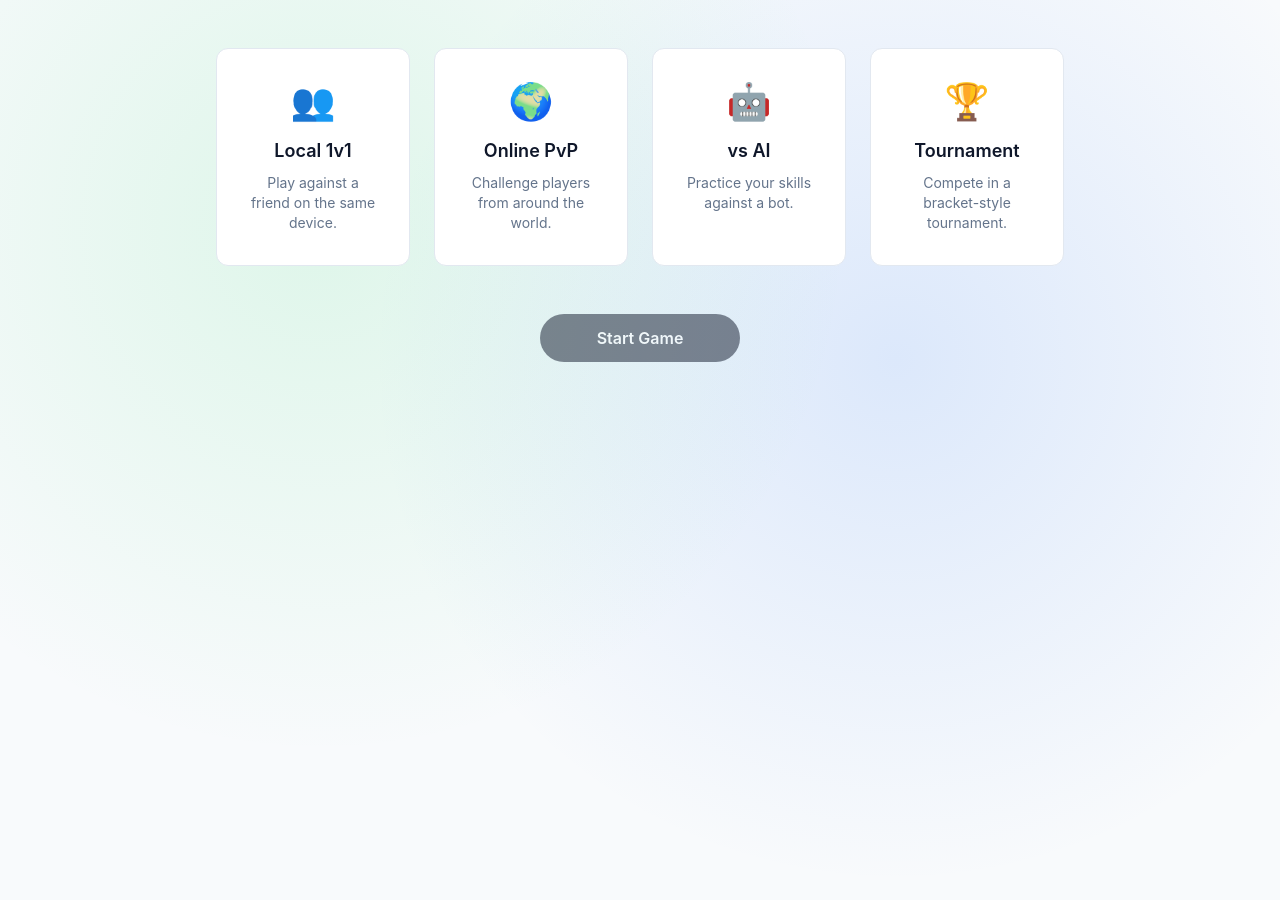
Test: GameLobbyPage › enables start button when local mode is selected
What coordinates should you click on to do the following:
click the heading "Local 1v1"
I would click on:
 (313, 151)
Its box is [274,137,352,165].
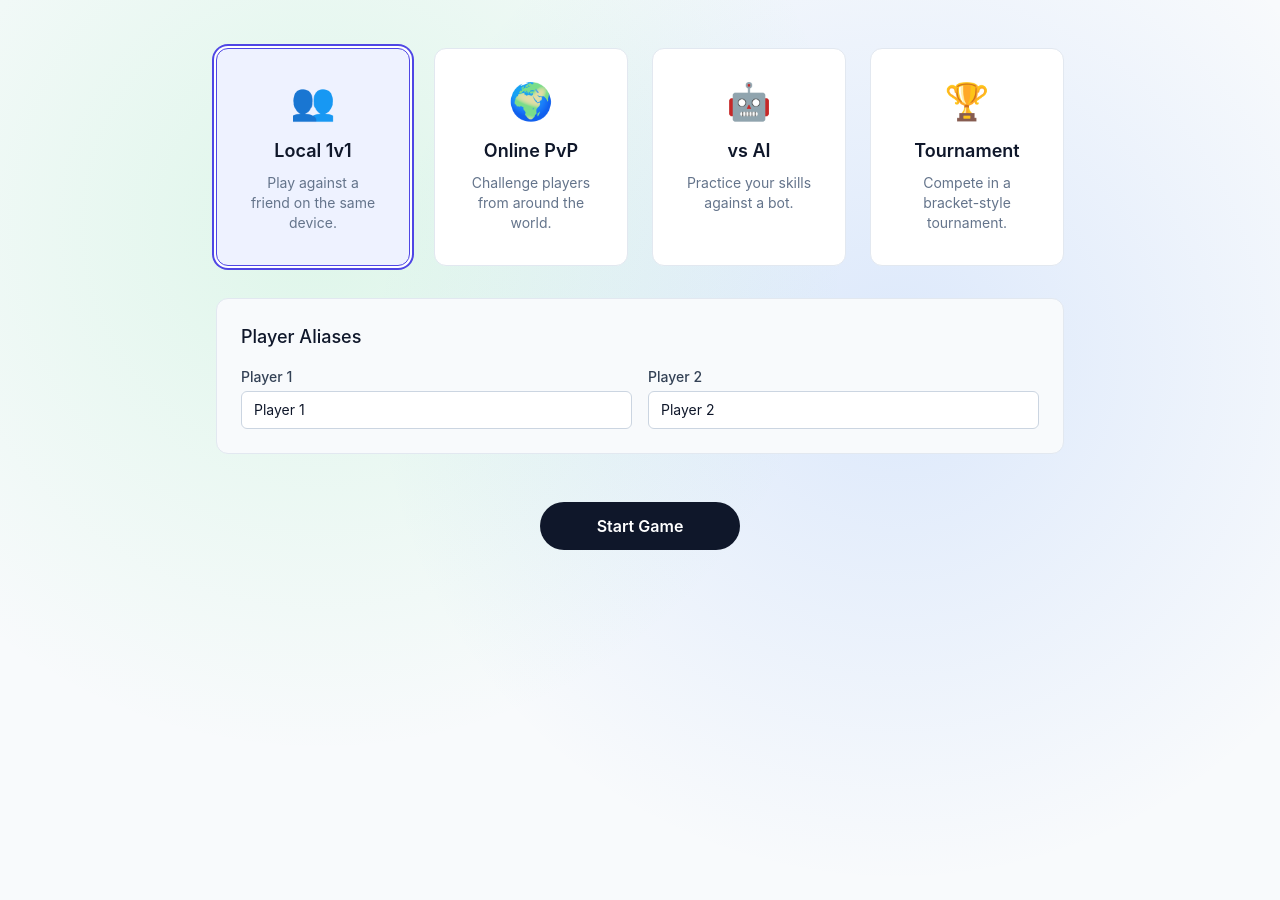
Check: the button "Start Game" is enabled, box [540,502,740,550]
